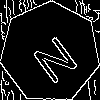N: (25, 27, 81, 86)
